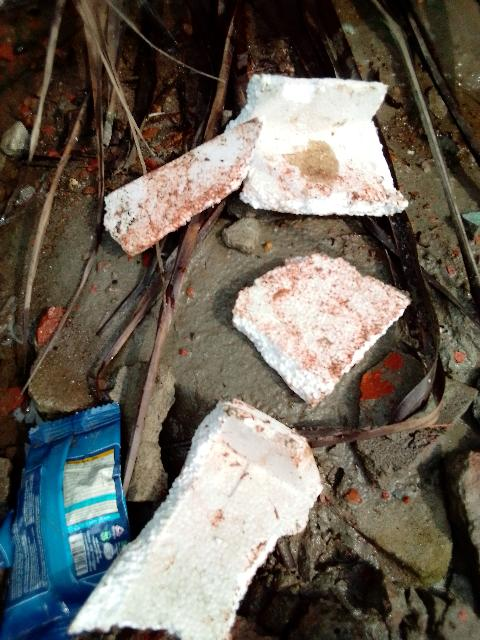cocksheet: (69, 367, 342, 640), (228, 198, 438, 403), (243, 70, 402, 222)
